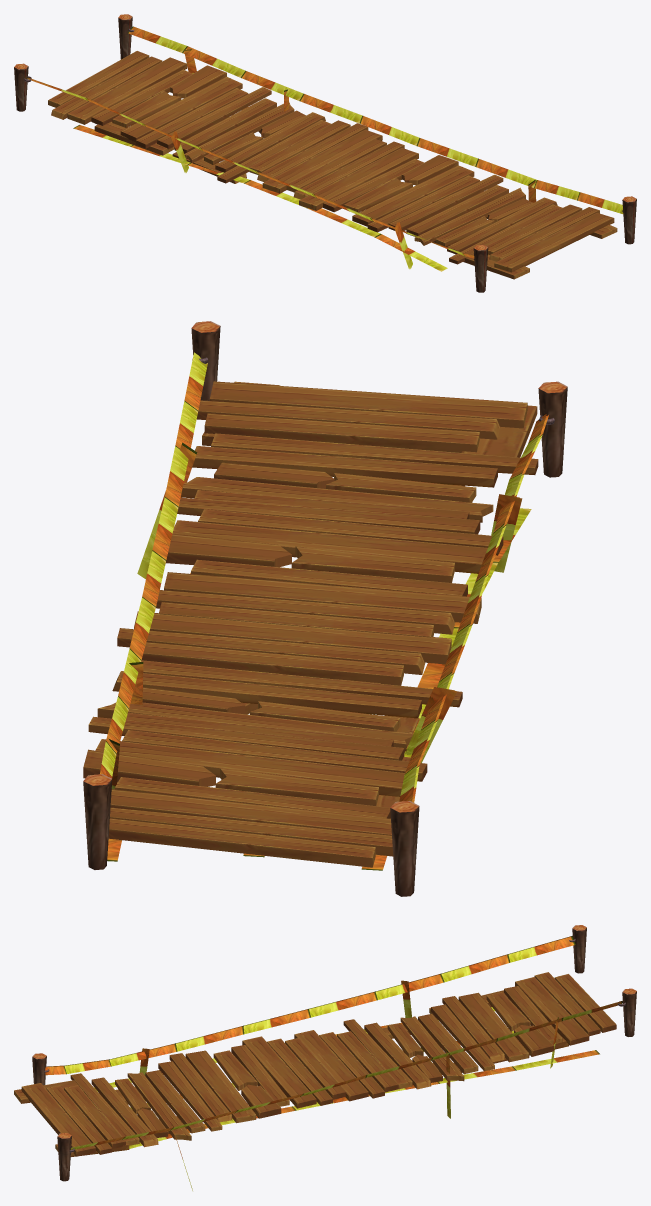
Rendered from qiao_007.FBX.
3 renders of one model, top to bottom at view 1: azimuth 30°, elevation 25°; view 2: azimuth 150°, elevation 25°; view 3: azimuth 270°, elevation 25°, orthographic. The views are drawn at different scales.
Parts seen in each view (by area): view 1: qiao_007, Group007; view 2: qiao_007, Group007; view 3: qiao_007, Group007.
Boxes of the visible parts, <box> form: qiao_007: <box>14,14,636,292</box>; Group007: <box>25,26,623,271</box>; qiao_007: <box>83,321,567,896</box>; Group007: <box>100,352,548,870</box>; qiao_007: <box>14,925,636,1181</box>; Group007: <box>45,936,622,1190</box>.
Size of the model in its own units: 1438 by 397 by 2095.
2 materials, 2 textured.
